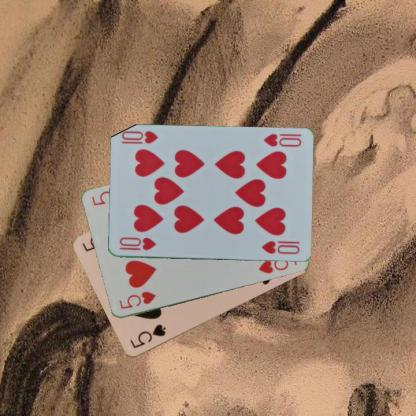10h: (116, 234, 157, 252), (261, 131, 302, 149)
5h: (116, 289, 157, 311)
5s: (127, 322, 167, 350)
